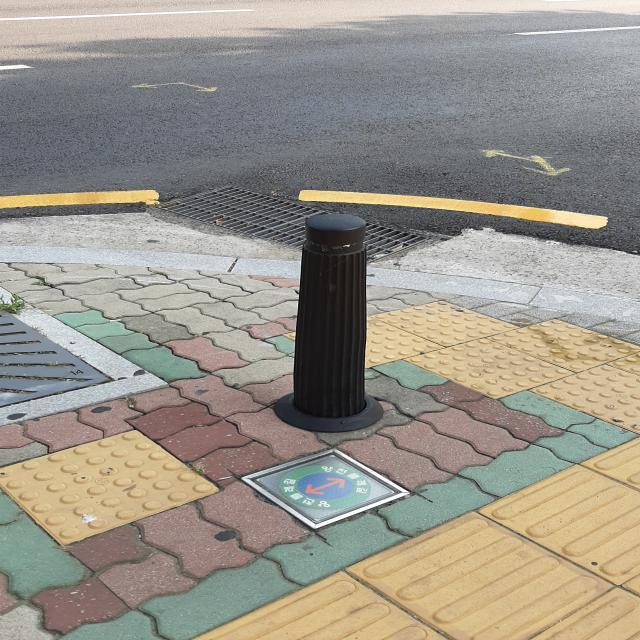pole: (273, 213, 383, 433)
